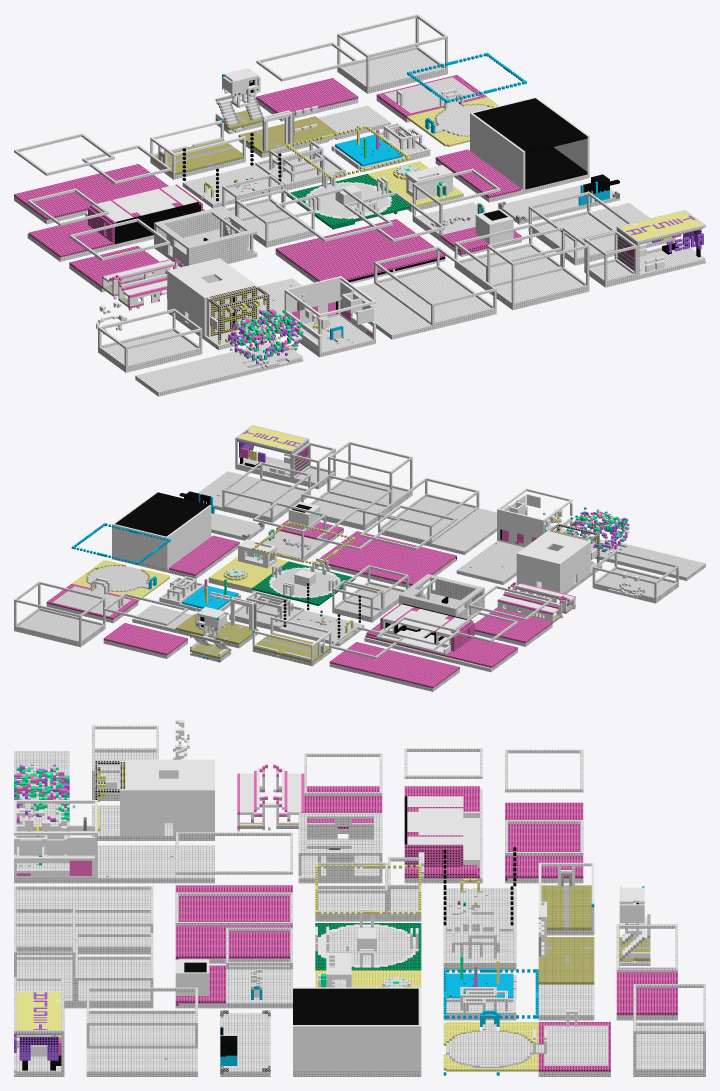
Rendered from Mars-v2.glb.
3 views of the same model, one above another, from view 1: azimuth 30°, elevation 25°; view 2: azimuth 150°, elevation 25°; view 3: azimuth 270°, elevation 25° (orthographic). The views are drawn at different scales.
Visible parts, largest first — view 1: solid-voxels_19.012; view 2: solid-voxels_19.012; view 3: solid-voxels_19.012.
Boxes of the visible parts, box(x1,y1,x2,y2) form: solid-voxels_19.012: box(14, 14, 705, 396); solid-voxels_19.012: box(14, 425, 705, 691); solid-voxels_19.012: box(14, 720, 705, 1076).
Bounding box in the file's own units: 136 × 13 × 124.
Materials: 1 (1 with a texture image).
